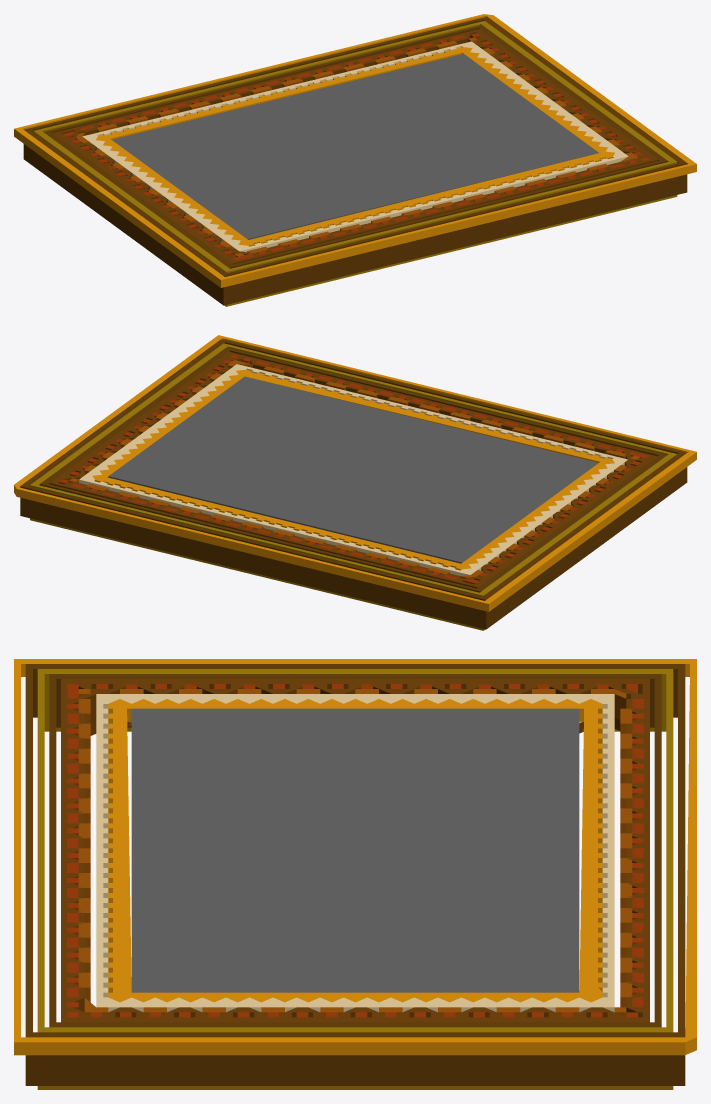
The model's file is FNCYFRAM.glb.
3 renders of one model, top to bottom at view 1: azimuth 30°, elevation 25°; view 2: azimuth 150°, elevation 25°; view 3: azimuth 270°, elevation 25°, orthographic. The views are drawn at different scales.
Parts seen in each view (by area): view 1: _0; view 2: _0; view 3: _0.
Boxes of the visible parts, x1,y1,x2,y2 form: _0: (14,14,696,306); _0: (14,335,696,630); _0: (14,659,696,1089).
Bounding box in the file's own units: 8 × 0.5609 × 6.03.
